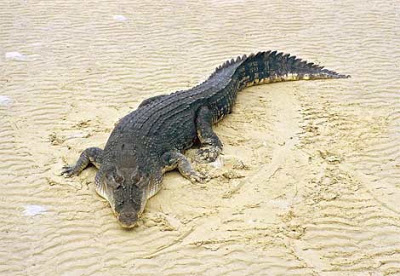Crocodile: (55, 46, 353, 231)
